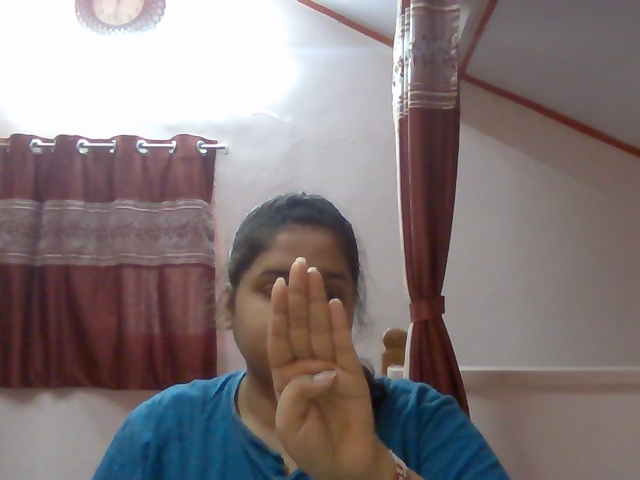b: (250, 254, 378, 469)
